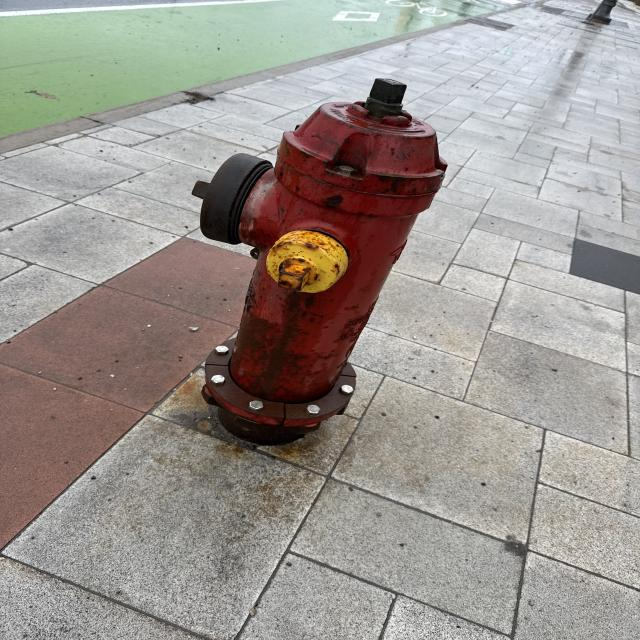Fire hydrant: (190, 77, 449, 445)
